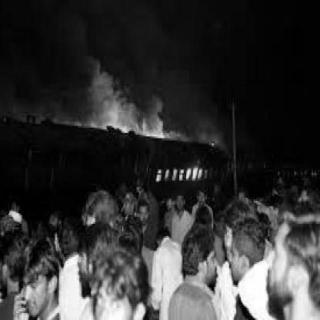Fire: (60, 76, 229, 136)
